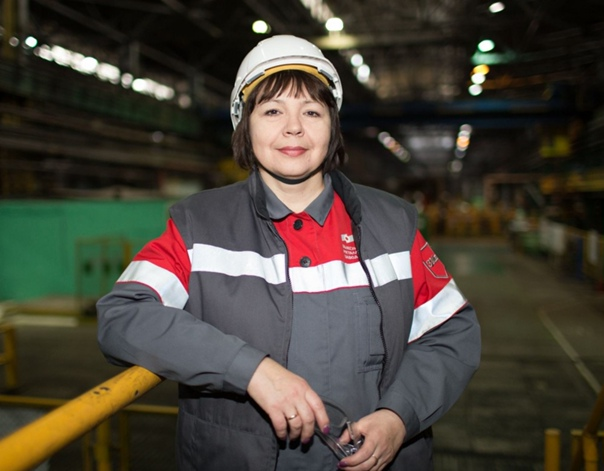person: (95, 35, 481, 471)
